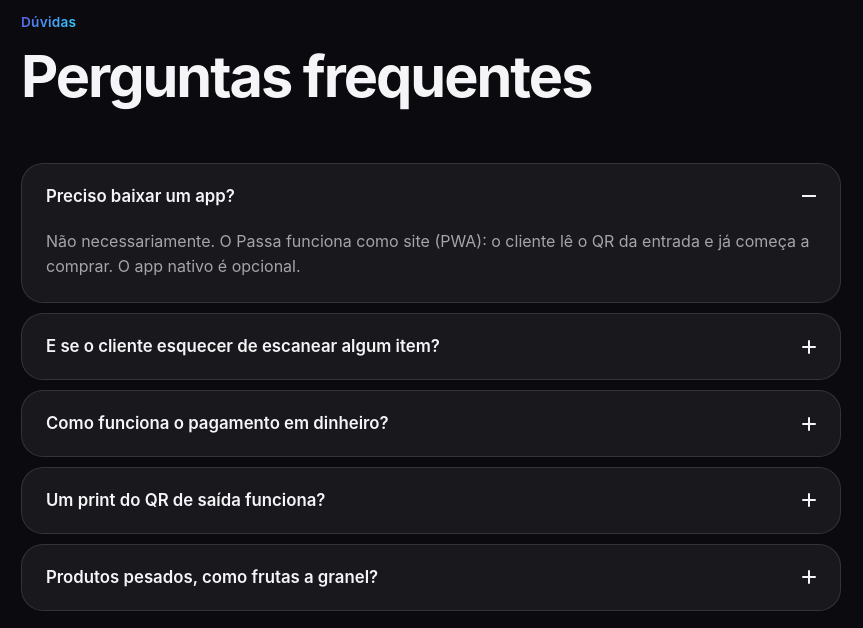
it: <Faq /> › funciona como acordeão: abrir uma fecha a outra
Click the button "Como funciona o pagamento em dinheiro?": (217, 423) top-left (22, 391), bottom-right (840, 456)
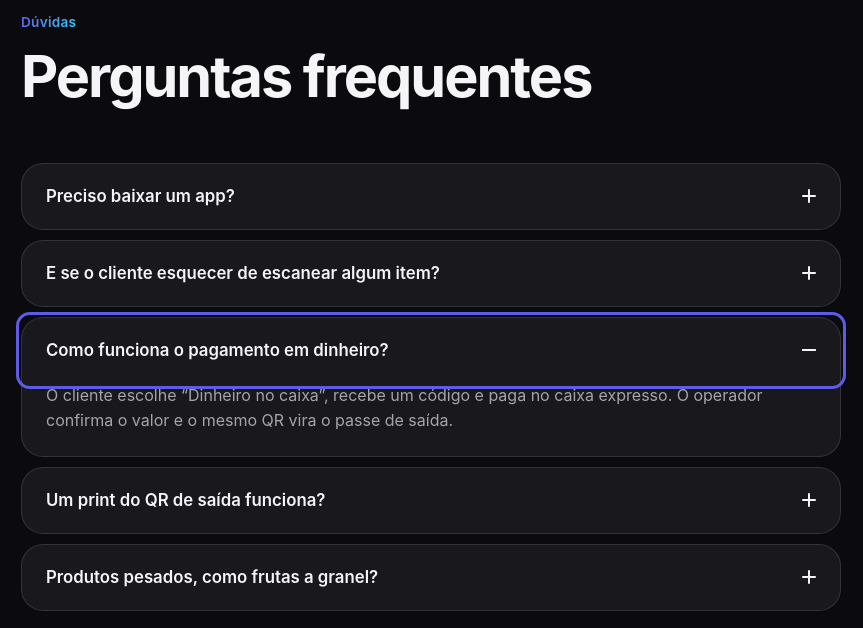
Expected: the button "Como funciona o pagamento em dinheiro?" is expanded, top-left (22, 318), bottom-right (840, 383)
Expected: the button "Preciso baixar um app?" is collapsed, top-left (22, 164), bottom-right (840, 229)
Expected: the text "Não necessariamente. O Passa funciona como site (PWA): o cliente lê o QR da entrada e já começa a comprar. O app nativo " is gone
